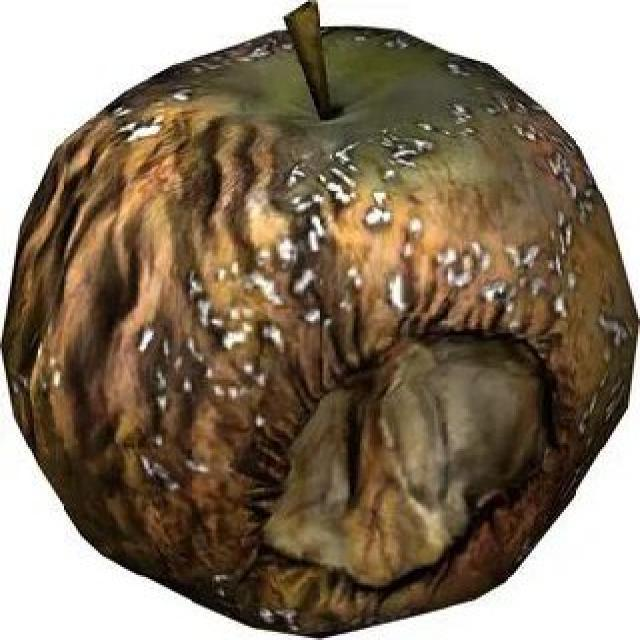Banana: (2, 17, 640, 640)
